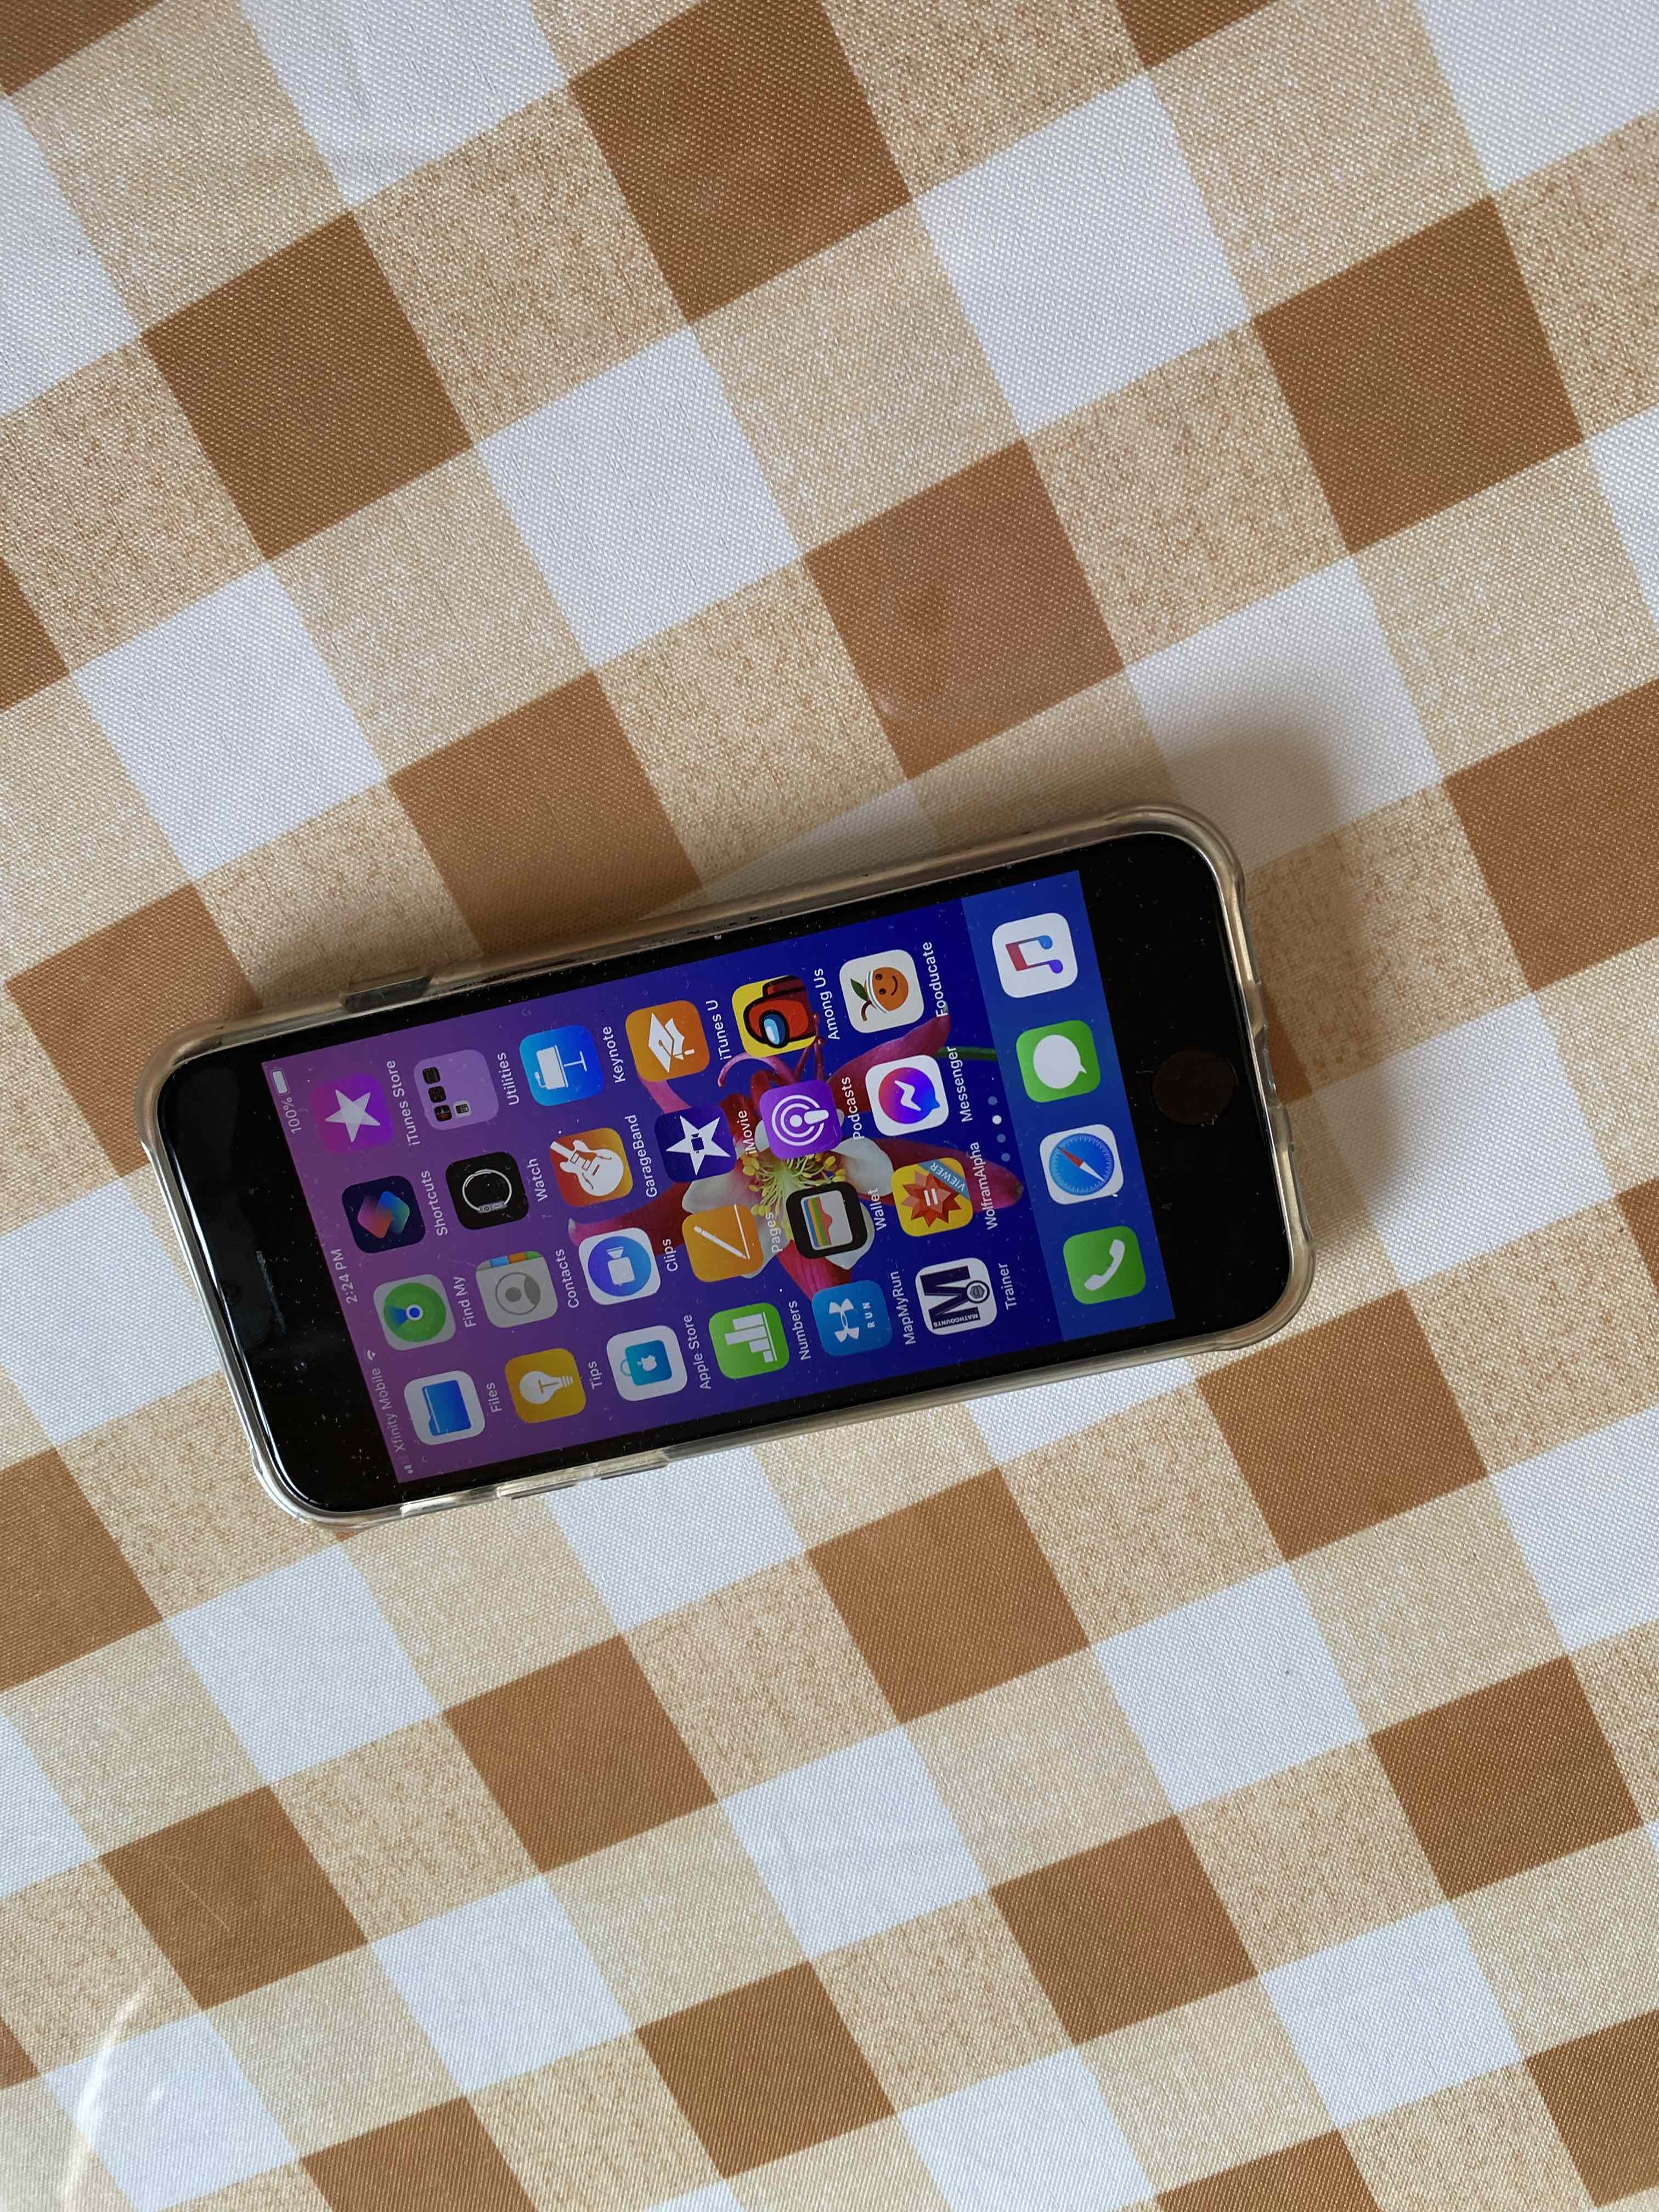Cell Phone: (153, 803, 1309, 1522)
